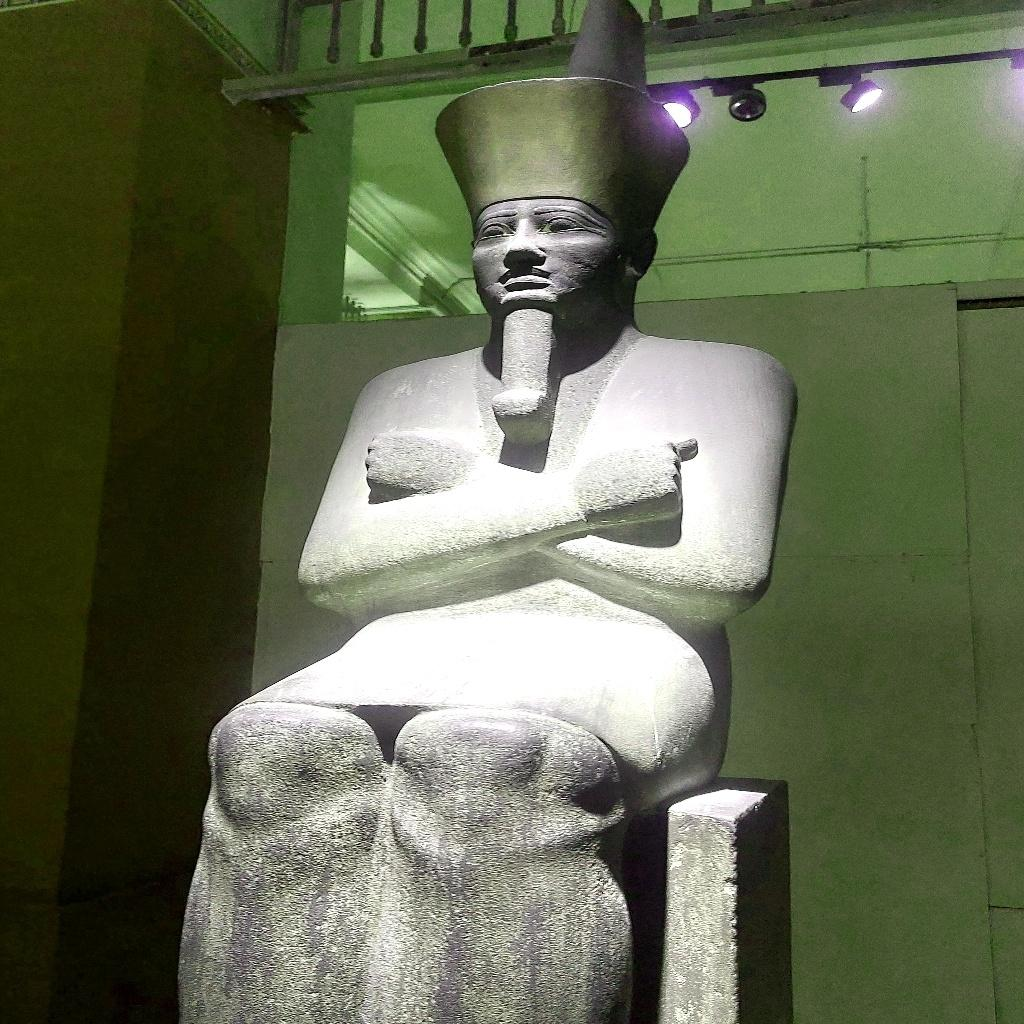Mentuhotep Nebhetpre: (173, 4, 801, 1020)
